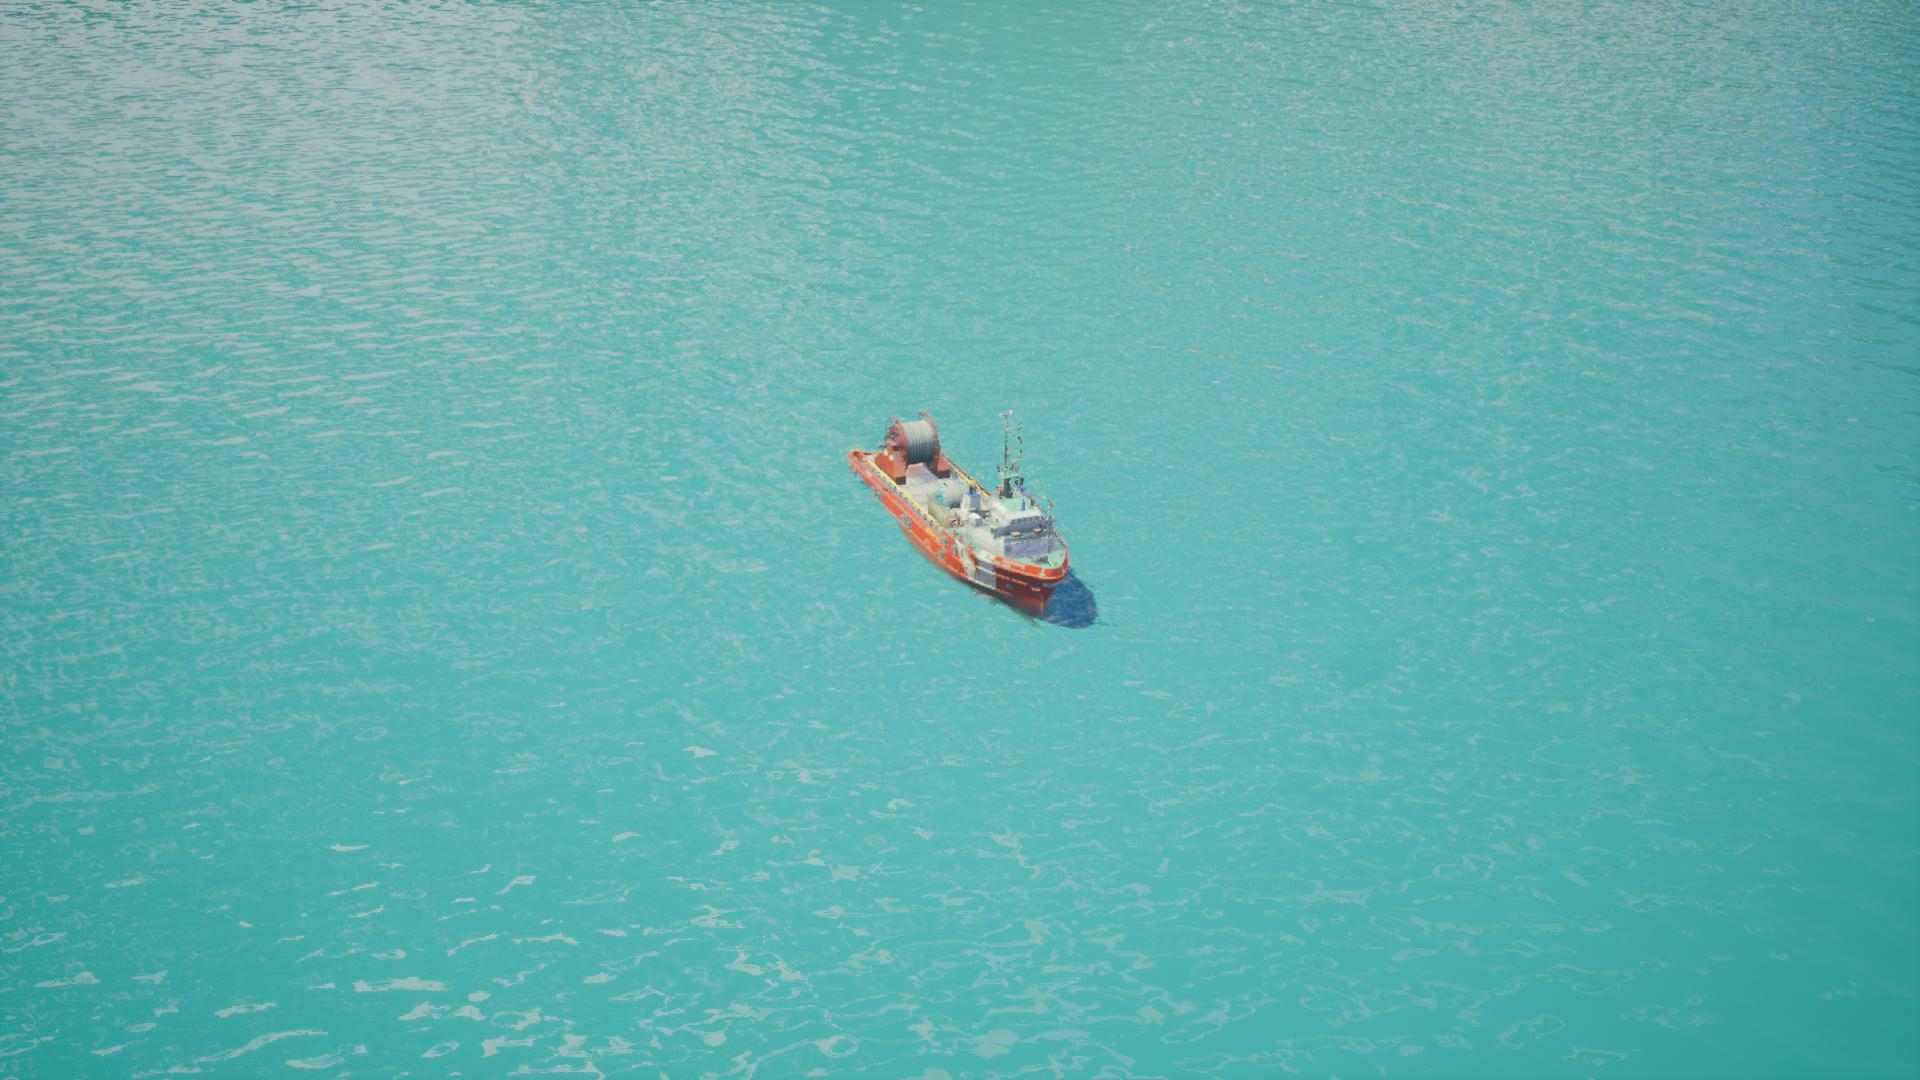Tug Boat: (823, 398, 1132, 635)
